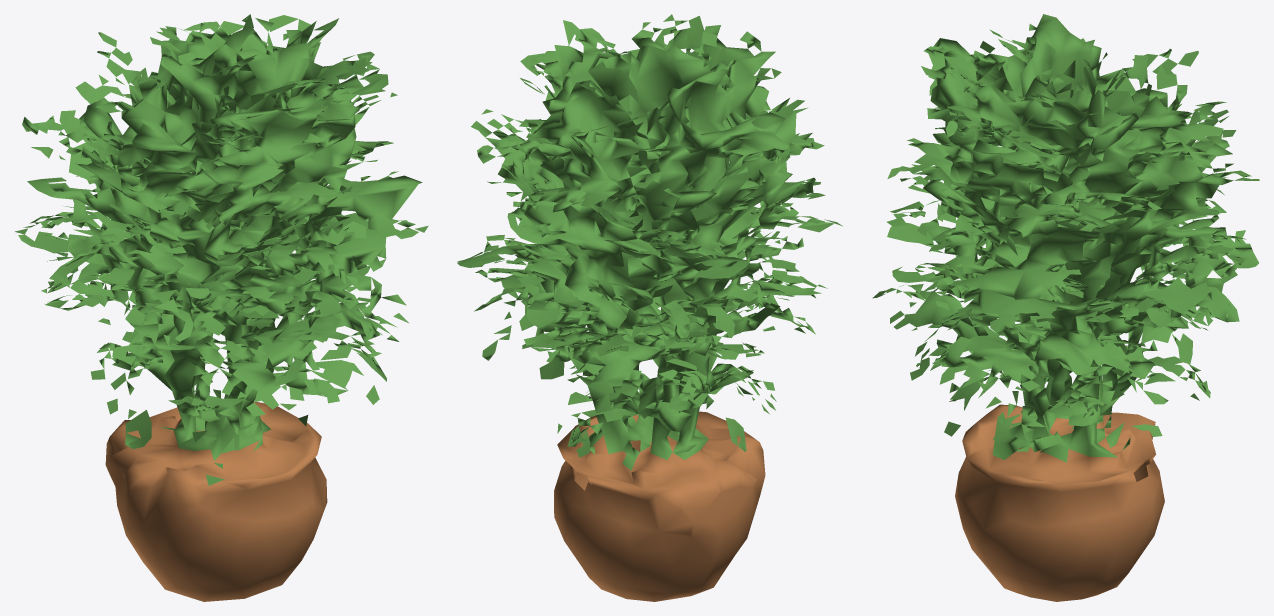
Rendered from plante_4.glb.
The picture shows the model from 3 angles, left to right: view 1: azimuth 30°, elevation 25°; view 2: azimuth 150°, elevation 25°; view 3: azimuth 270°, elevation 25°; orthographic projection. The views are drawn at different scales.
Visible parts, largest first — view 1: Mesh1; view 2: Mesh1; view 3: Mesh1.
Part boxes in pixels (<box>): Mesh1: <box>15,14,428,601</box>; Mesh1: <box>457,14,842,601</box>; Mesh1: <box>872,14,1259,601</box>.
Bounding box in the file's own units: 1.64 × 2.43 × 1.6.
